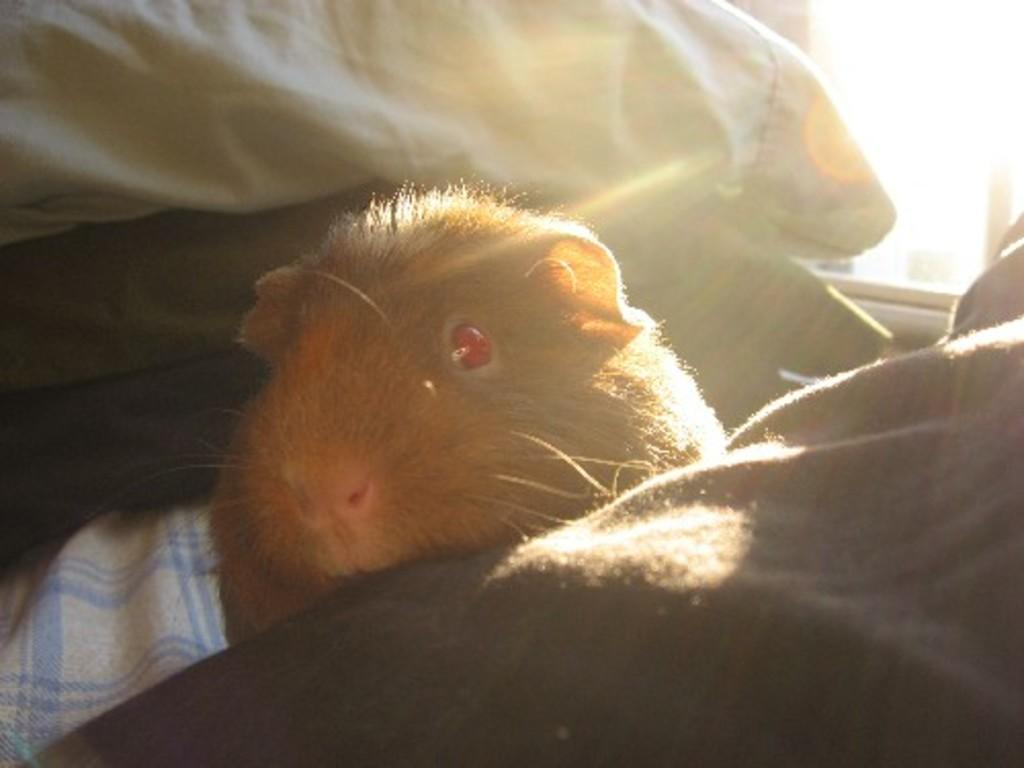mouse: (212, 189, 723, 640)
